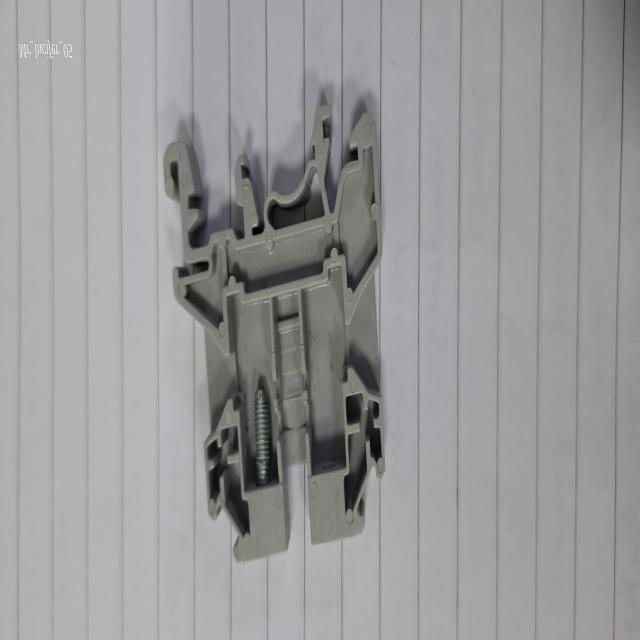Reject: (150, 97, 386, 574)
